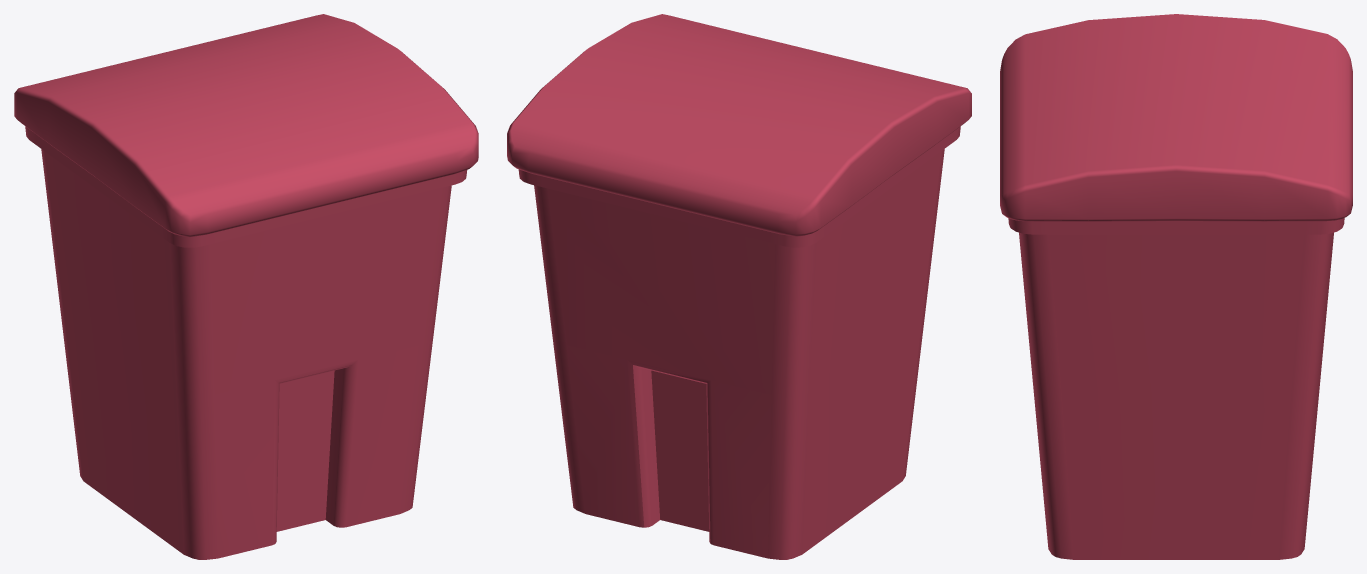
The model's file is SM_Trash_Bin_02.fbx.
The picture shows the model from 3 angles, left to right: view 1: azimuth 30°, elevation 25°; view 2: azimuth 150°, elevation 25°; view 3: azimuth 270°, elevation 25°; orthographic projection. The views are drawn at different scales.
Parts seen in each view (by area): view 1: SM_Trash_Bin_02, SM_Trash_Bin_Top.001; view 2: SM_Trash_Bin_02, SM_Trash_Bin_Top.001; view 3: SM_Trash_Bin_02, SM_Trash_Bin_Top.001.
Part boxes in pixels (x1,y1,x2,y2): SM_Trash_Bin_02: (25,126,467,559); SM_Trash_Bin_Top.001: (14,14,478,237); SM_Trash_Bin_02: (518,126,960,559); SM_Trash_Bin_Top.001: (507,14,971,236); SM_Trash_Bin_02: (1008,218,1344,559); SM_Trash_Bin_Top.001: (1000,14,1352,221).
Size of the model in its own units: 213 by 265 by 205.
